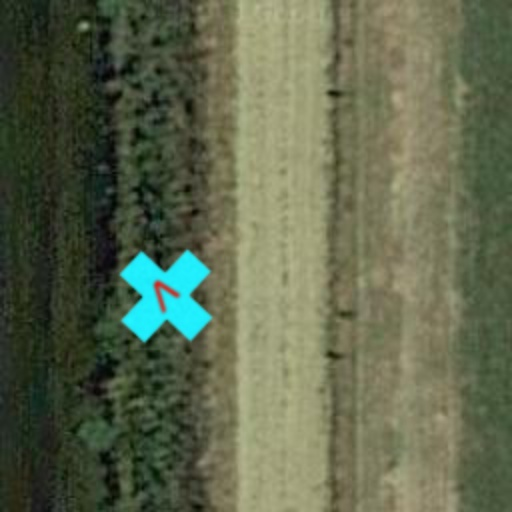cross: (96, 226, 236, 366)
